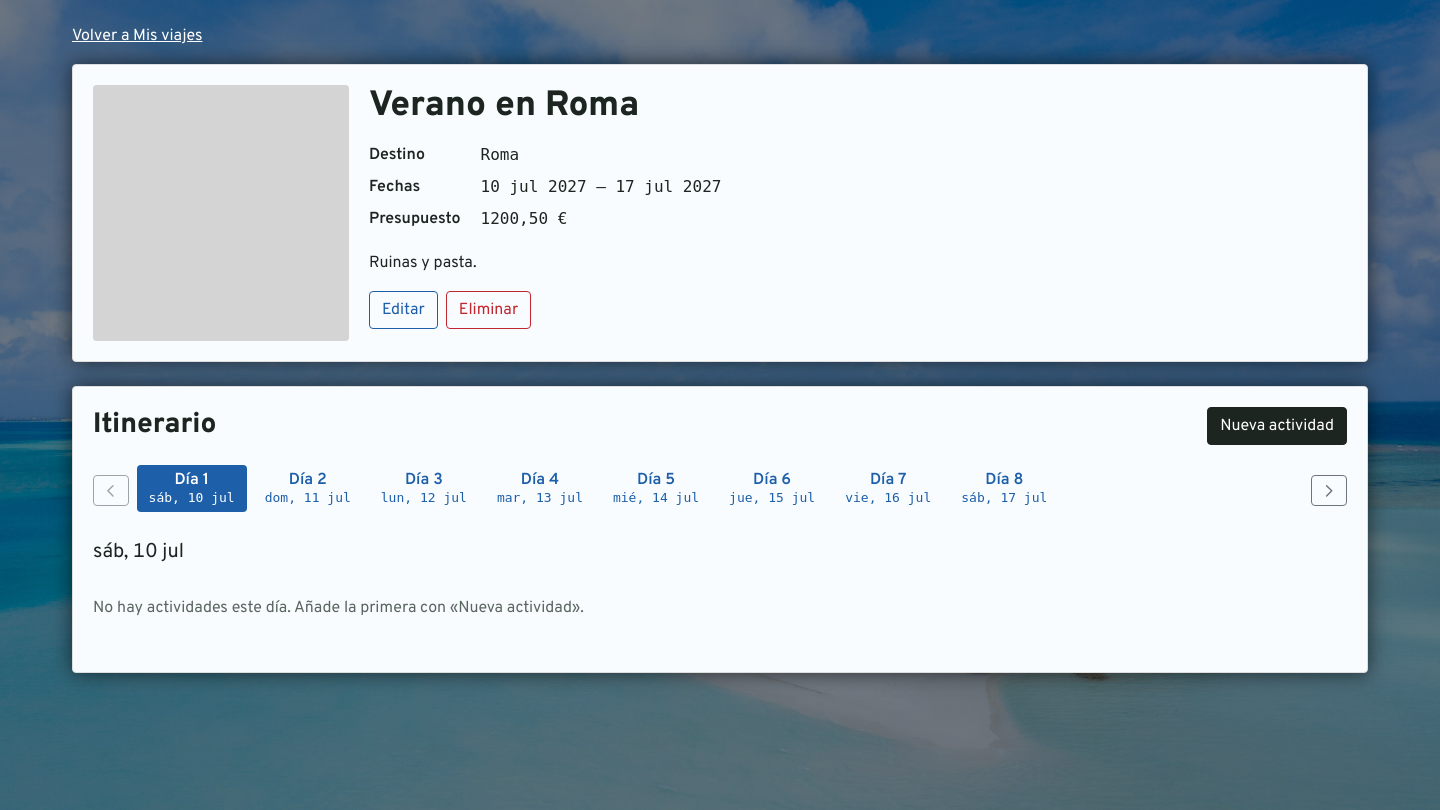
B4 TripDetailPage › B5 deleting the trip warns that its activities go with it
This screenshot has width=1440, height=810.
Click the button "Eliminar" at (488,310), box [446,291,531,329]
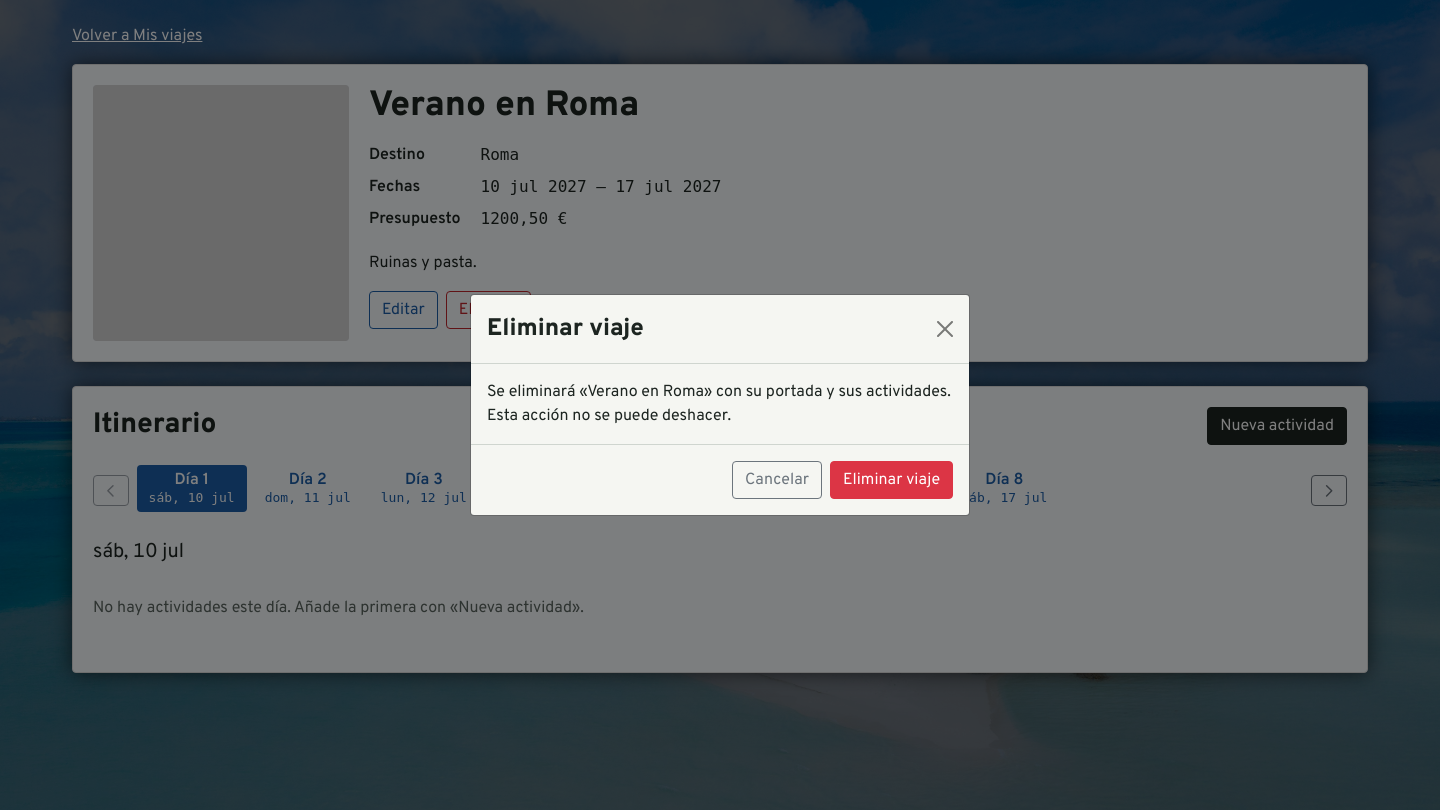
Result: the dialog "Eliminar viaje" shows "con su portada y sus actividades" at [487,382,951,426]
